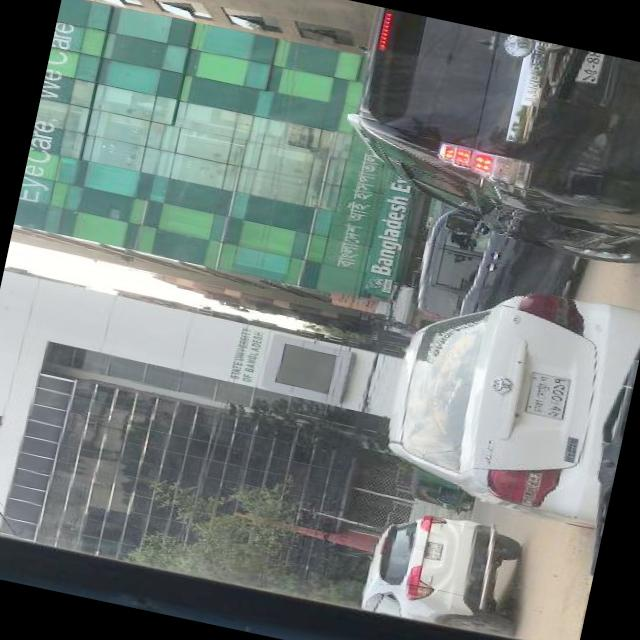car: (372, 267, 640, 532), (354, 506, 516, 636)
motorcycle: (402, 468, 478, 514)
truck: (333, 10, 640, 268), (411, 190, 591, 342)
